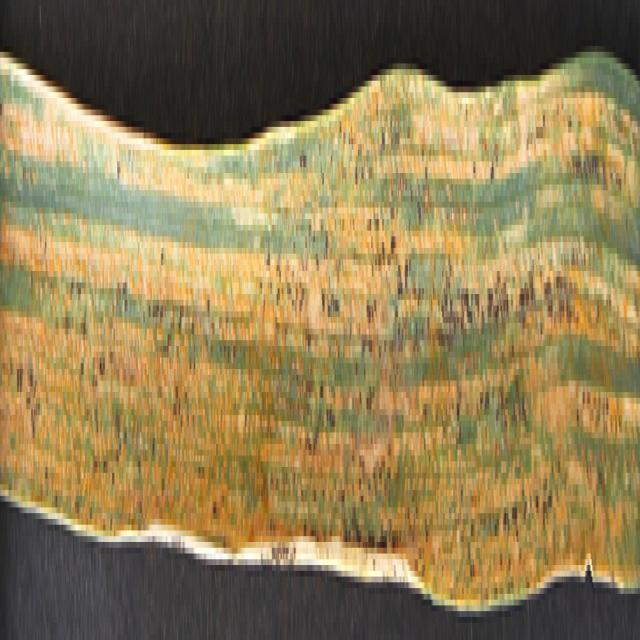leaf rust: (0, 5, 640, 576)
